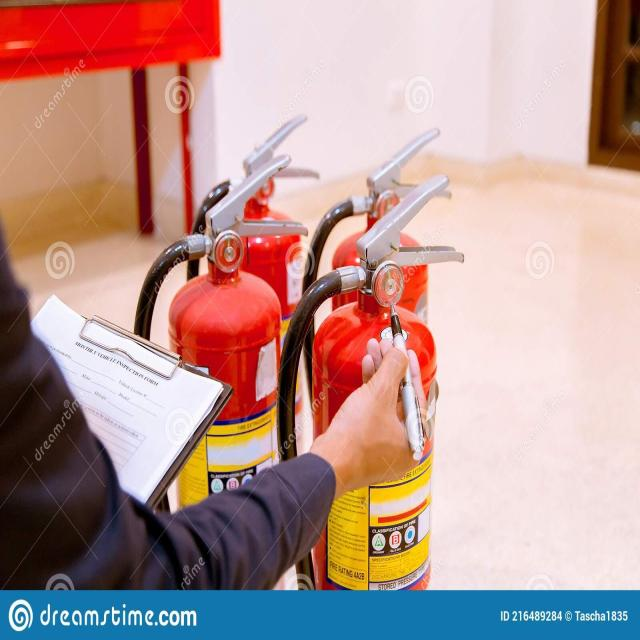fire_extinguisher: (129, 149, 314, 594), (276, 171, 471, 591), (304, 118, 459, 590), (174, 108, 323, 582)
